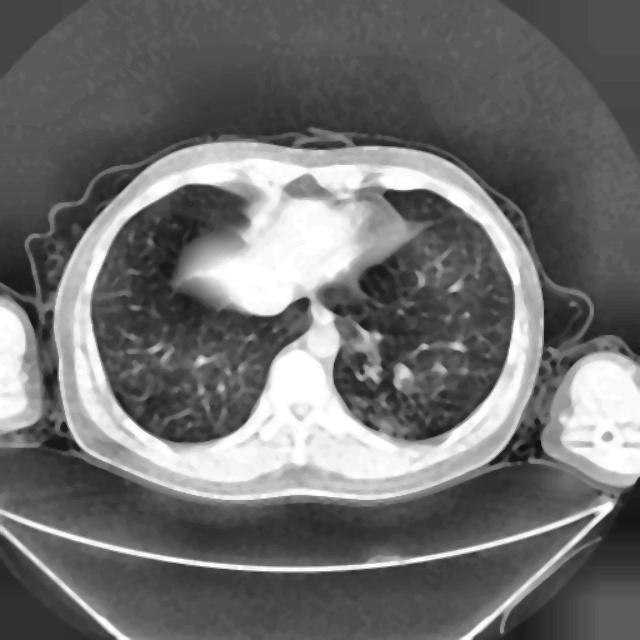covid: (45, 133, 550, 507)
